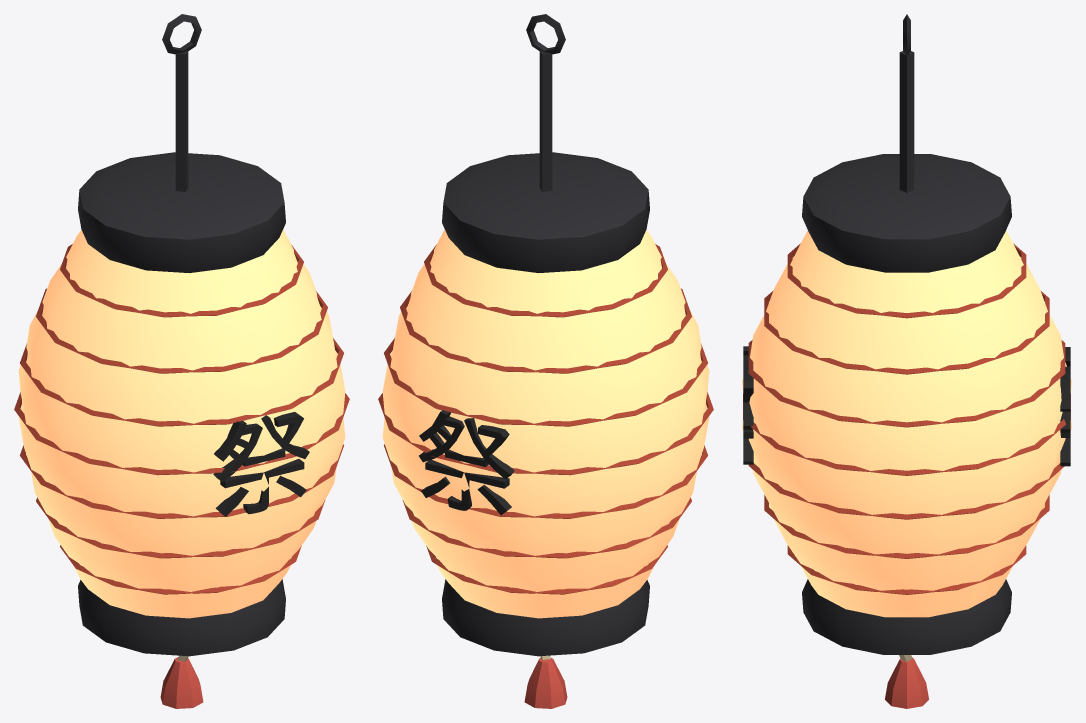
Rendered from chochin_hanging.glb.
3 renders of one model, left to right at view 1: azimuth 30°, elevation 25°; view 2: azimuth 150°, elevation 25°; view 3: azimuth 270°, elevation 25°, orthographic.
Visible parts, largest first — view 1: chochin_hanging_body; view 2: chochin_hanging_body; view 3: chochin_hanging_body.
Part boxes in pixels (x1,y1,x2,y2): chochin_hanging_body: (14, 14, 349, 708); chochin_hanging_body: (378, 14, 713, 708); chochin_hanging_body: (742, 14, 1071, 708).
Size of what is drawn, in the model's own units: 0.4543 by 1.03 by 0.4458.
